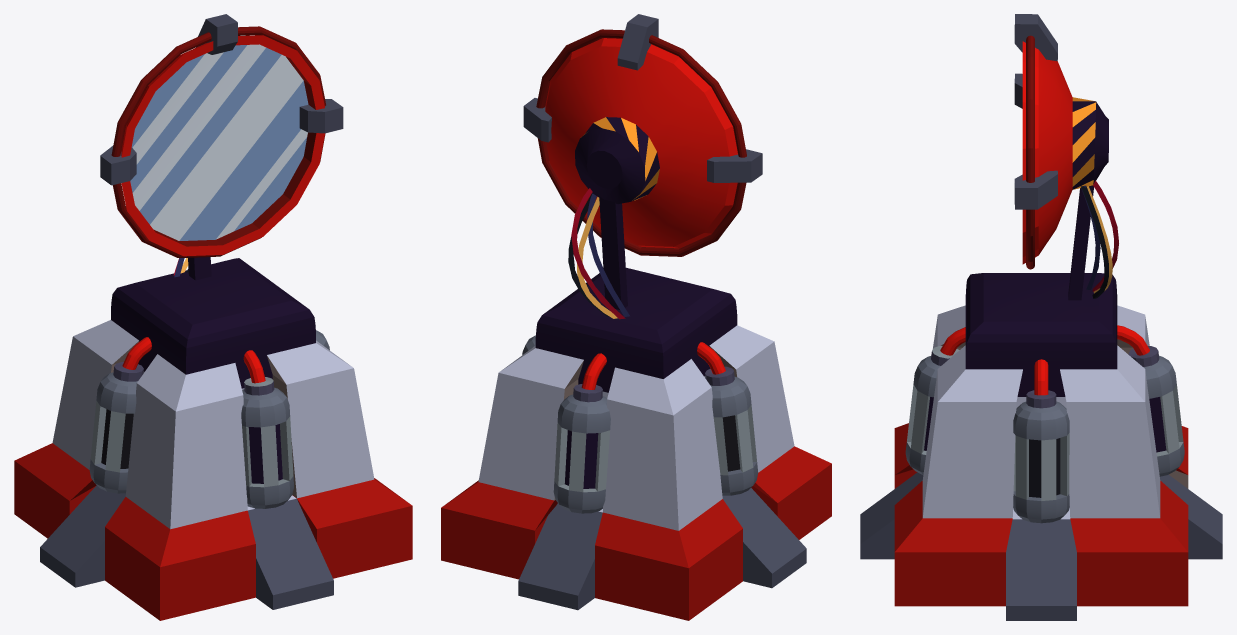
Rendered from mirror.obj.
The picture shows the model from 3 angles, left to right: view 1: azimuth 30°, elevation 25°; view 2: azimuth 150°, elevation 25°; view 3: azimuth 270°, elevation 25°; orthographic projection. The views are drawn at different scales.
Visible parts, largest first — view 1: mirror; view 2: mirror; view 3: mirror.
Boxes of the visible parts, x1,y1,x2,y2 form: mirror: [14, 14, 412, 620]; mirror: [441, 14, 831, 620]; mirror: [860, 14, 1222, 620].
Bounding box in the file's own units: 4.85 × 7.76 × 4.85.
